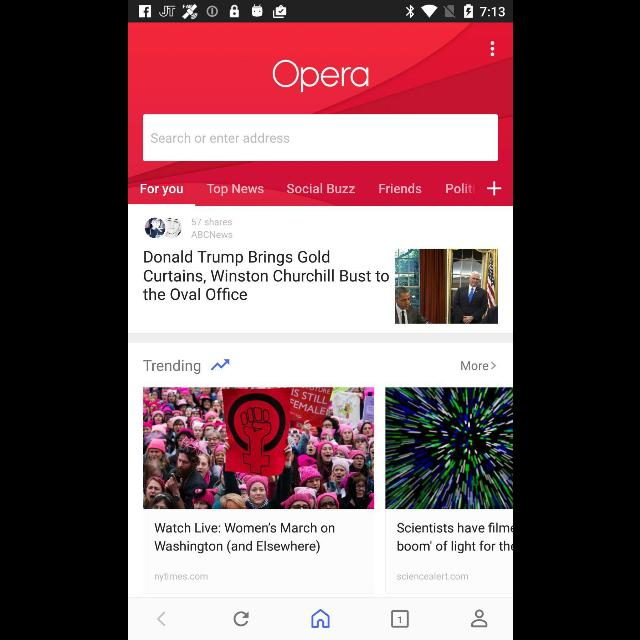icon: (310, 610, 330, 628), (470, 609, 488, 627), (232, 611, 248, 627), (487, 182, 501, 196), (210, 360, 228, 370), (157, 612, 166, 626), (490, 41, 494, 57), (490, 361, 496, 369)
image: (142, 387, 374, 509), (384, 388, 512, 509), (394, 248, 498, 324), (144, 218, 182, 238), (390, 610, 408, 628)
input: (142, 115, 498, 162)
text: (142, 250, 388, 302), (153, 522, 334, 554), (396, 522, 512, 554), (272, 61, 368, 94), (150, 133, 288, 143), (143, 360, 200, 374), (286, 183, 354, 194), (205, 184, 262, 196), (396, 572, 468, 580), (154, 572, 206, 582), (140, 184, 182, 196), (379, 183, 421, 194), (191, 218, 231, 226), (444, 183, 472, 194), (460, 361, 488, 371), (190, 232, 232, 238)
uppertaskbar: (128, 1, 512, 23)
